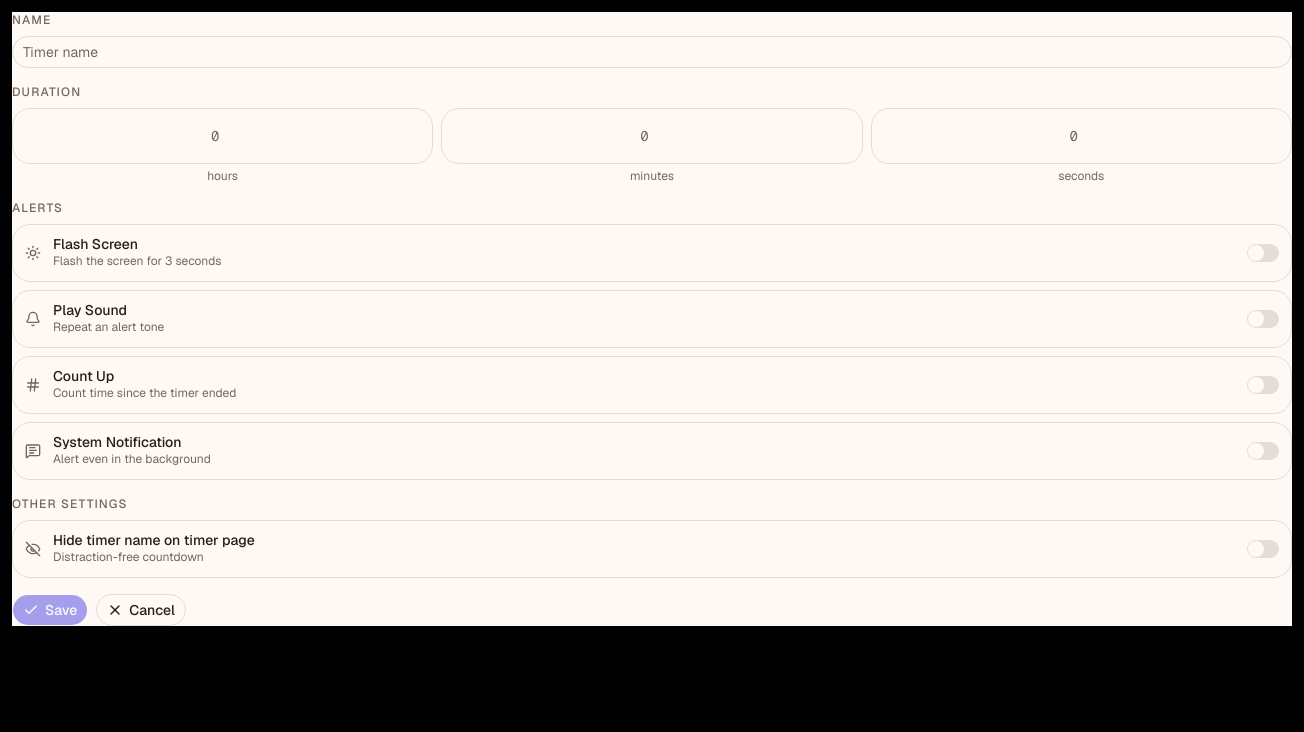
Test: TimerForm › alert card rows › reveals the notify sub-controls when notify is enabled
The image size is (1304, 732).
Click the switch named "System Notification" in the row of "Alert even in the background": [1263, 451] box [1247, 442, 1279, 460]
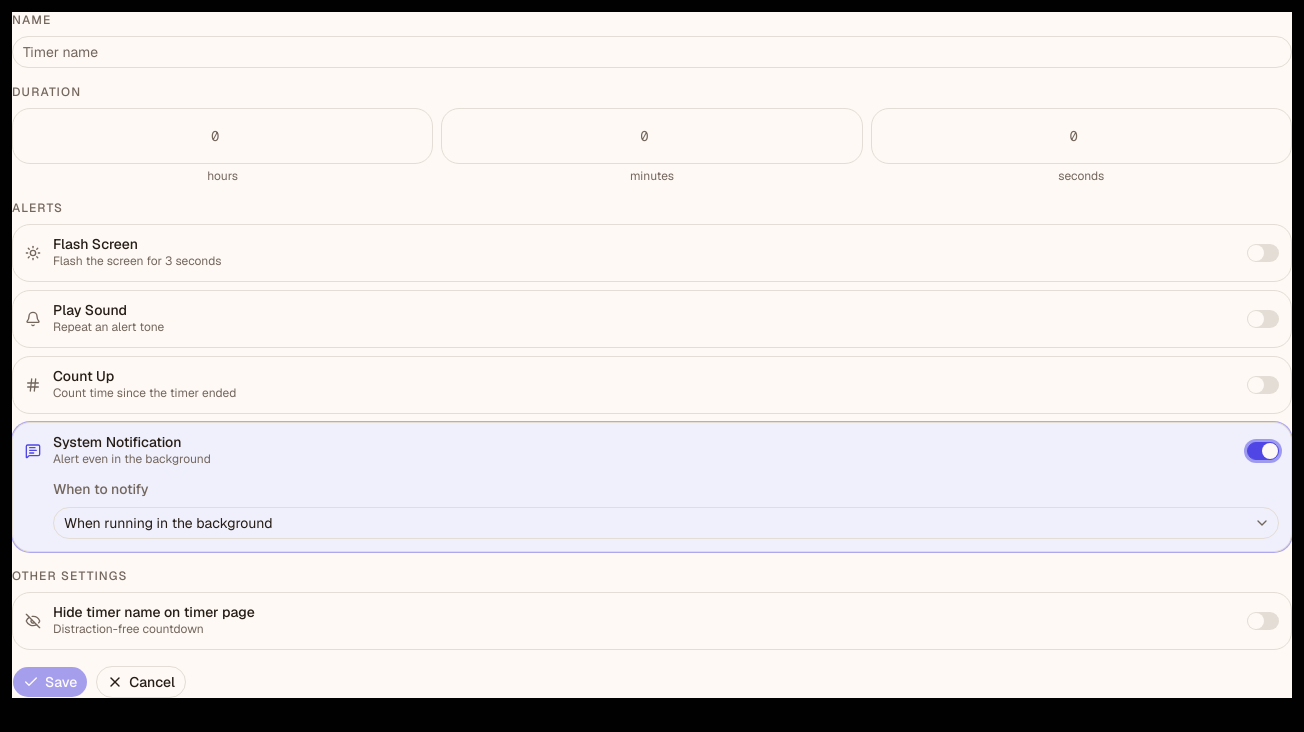
Expected: the dropdown named "Notification mode" is shown, [53, 507, 1279, 539]
